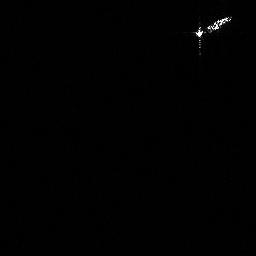ship: (190, 12, 236, 52)
